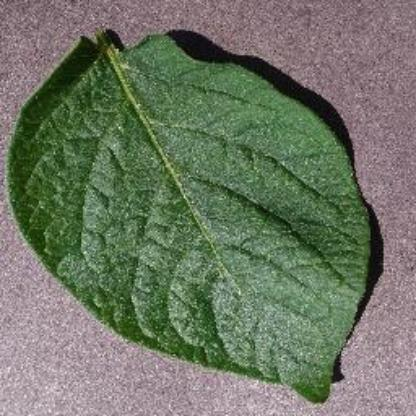Healthy-plant: (6, 27, 364, 403)
